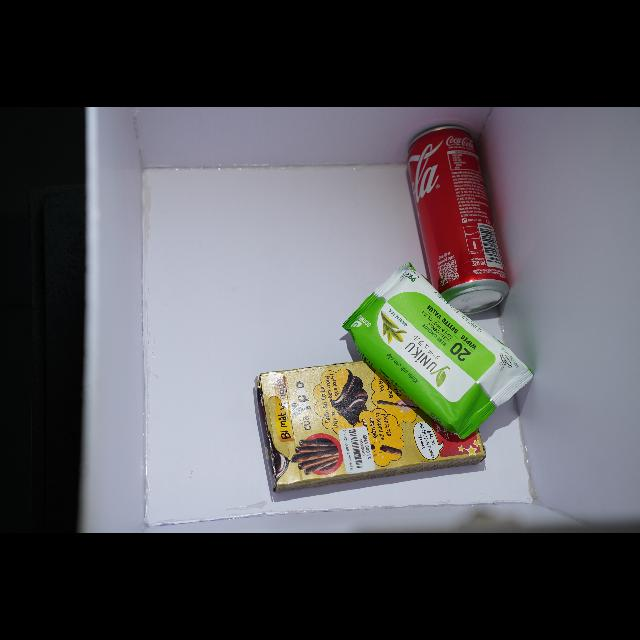banh_toppo_socola: (259, 362, 484, 490)
coca_cola: (408, 126, 510, 316)
khan_giay: (342, 263, 532, 439)
